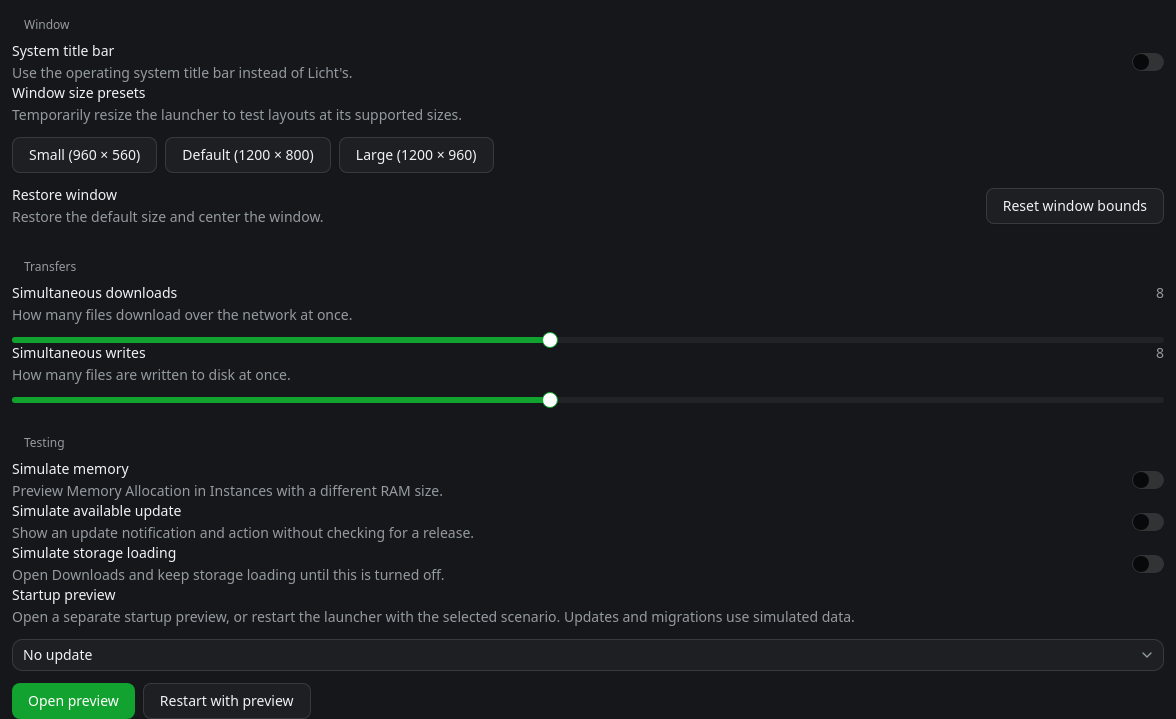
DevelopersSection › requests a startup test restart and reports launch failures
(page scrolled)
Click the button "Restart with preview".
click(227, 701)  # box [143,683,310,718]
(page scrolled)
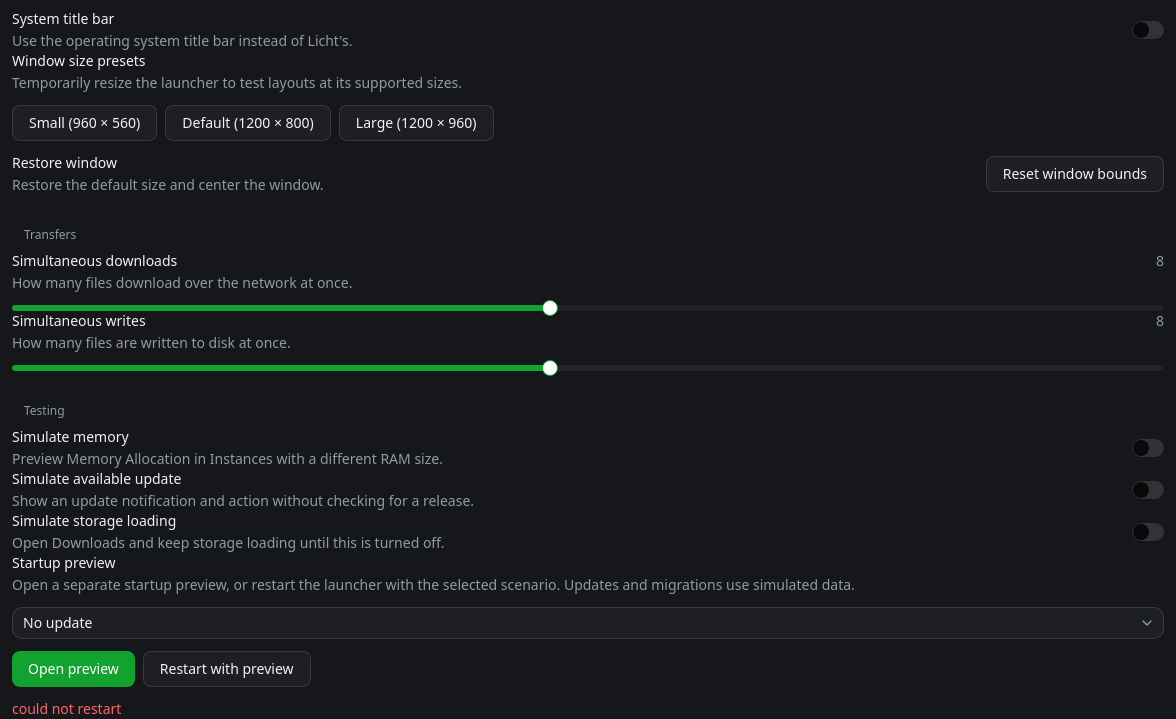
Check: the message reads "could not restart", box [12,699,121,718]
